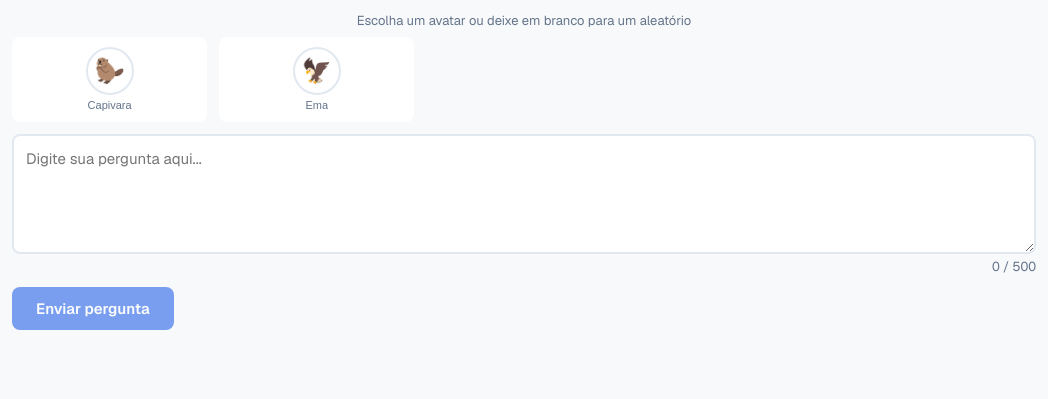
Test: QuestionForm › should show rate limit error with retry time
Type "Valid question text" into the text box named "Texto da pergunta" at coordinates (524, 194), box [12,134,1036,254]
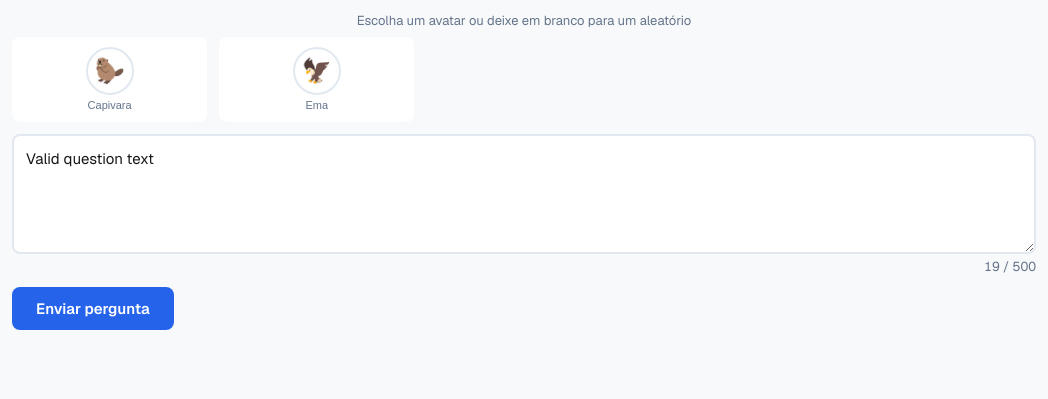
Click the button "Enviar pergunta" at coordinates (93, 309), box [12,287,174,330]
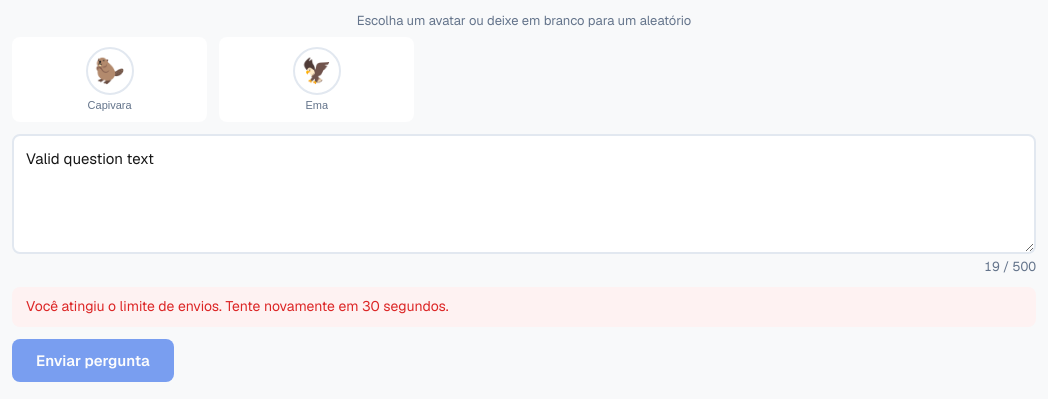
Now the message shows "30 segundos", box [26,297,449,315]
